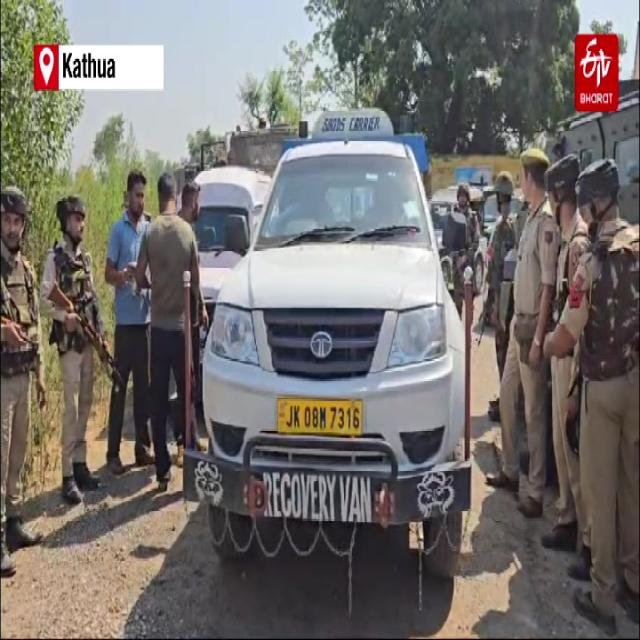plate: (272, 390, 373, 441)
